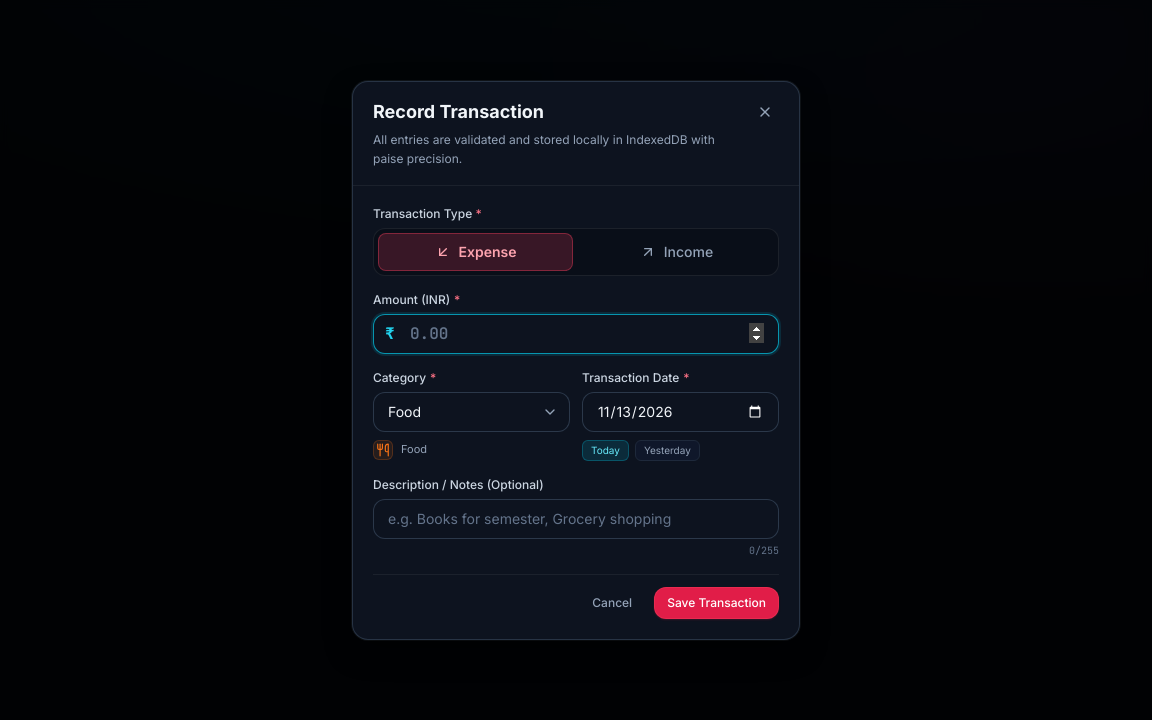
Test: Refined UI & Form Components Suite › Validates TransactionModal input and submits exact integer paise
Later steps or results of the test are not shown.
# Submit with empty amount should show validation error and NOT submit
Click the button "Save Transaction": {"x": 717, "y": 602} [654, 586, 779, 618]
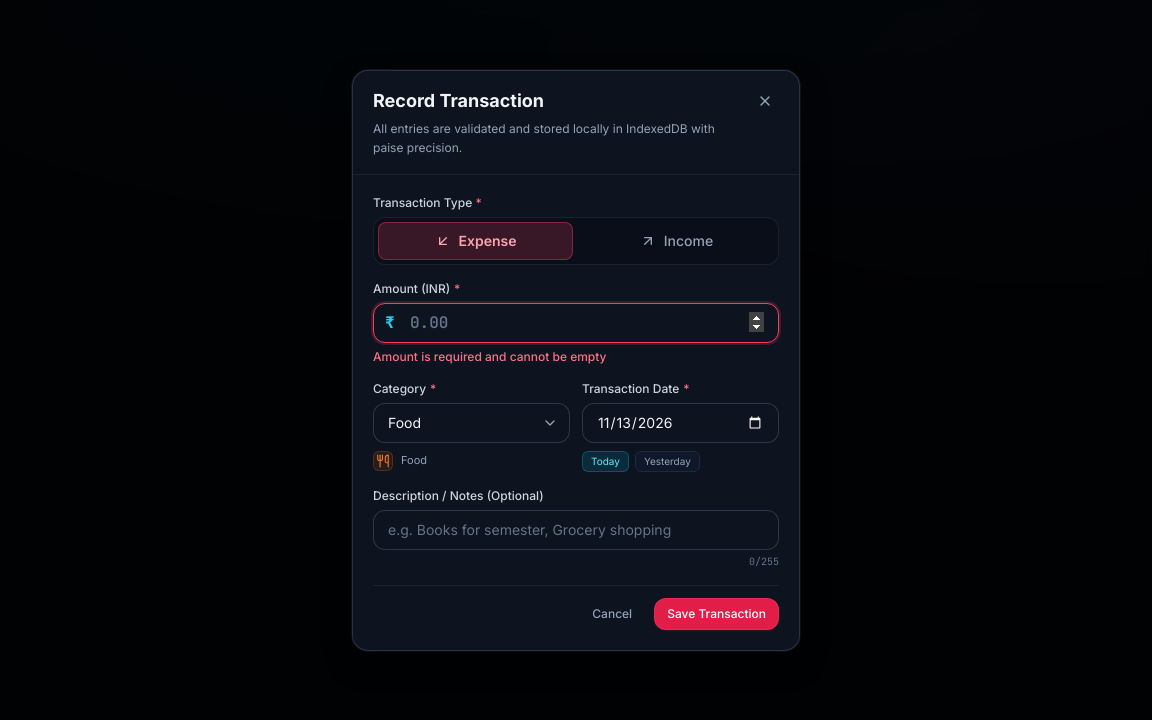
Expected: the text "Amount is required and cannot be empty" is shown, [373, 348, 606, 364]
